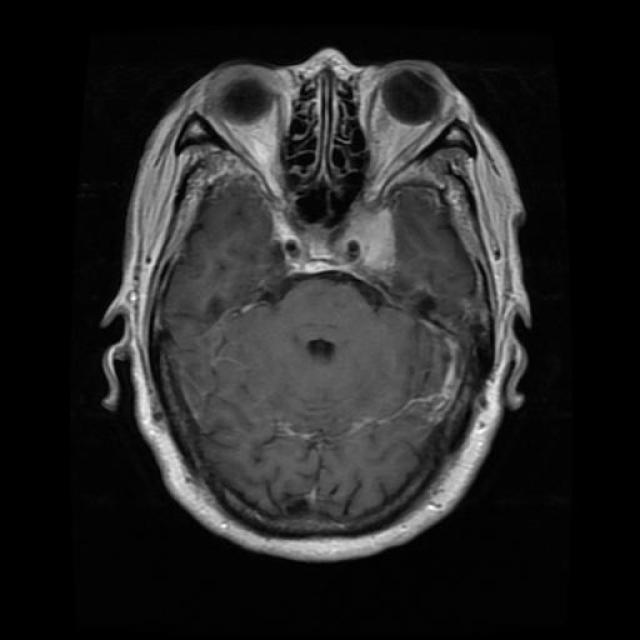meningioma: (352, 212, 395, 276)
